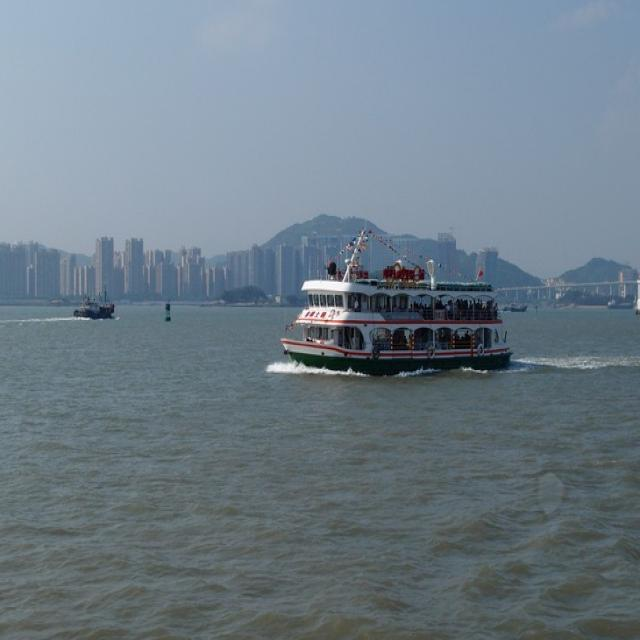passenger ship: (290, 228, 510, 366)
